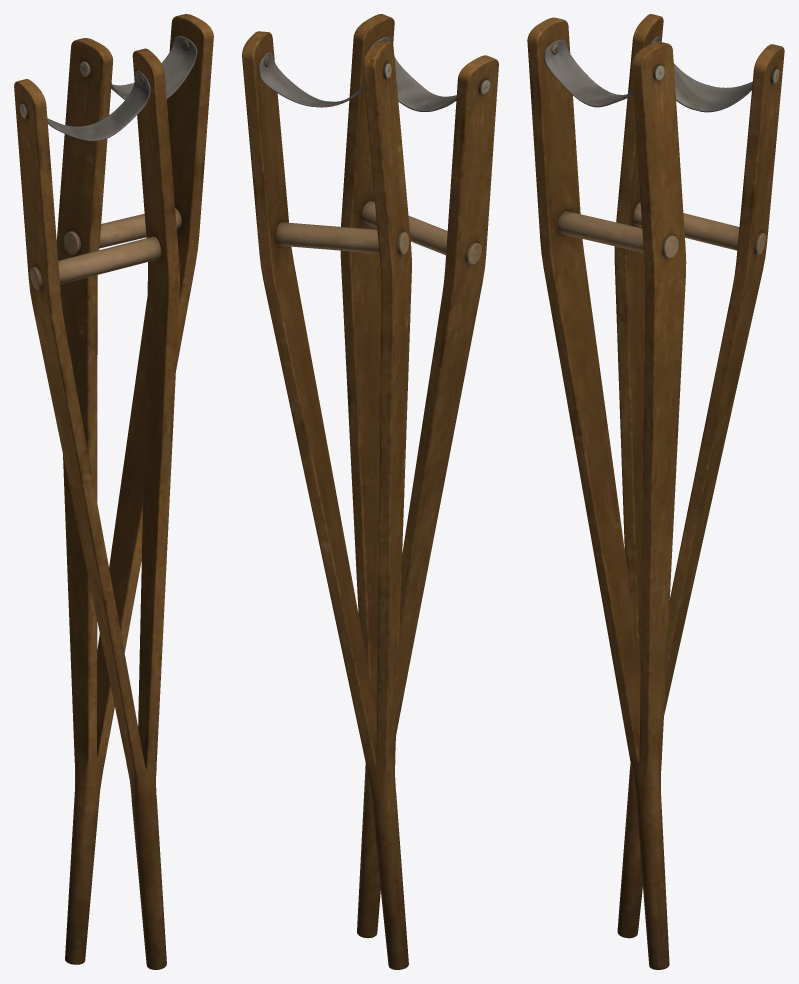
The model's file is vintage_crutches_01.glb.
The picture shows the model from 3 angles, left to right: view 1: azimuth 30°, elevation 25°; view 2: azimuth 150°, elevation 25°; view 3: azimuth 330°, elevation 25°; orthographic projection.
Visible parts, largest first — view 1: vintage_crutches_01_crutch01, vintage_crutches_01_crutch02; view 2: vintage_crutches_01_crutch02, vintage_crutches_01_crutch01; view 3: vintage_crutches_01_crutch01, vintage_crutches_01_crutch02.
Part boxes in pixels (bbox=[...]): vintage_crutches_01_crutch01: bbox=[14, 48, 179, 969]; vintage_crutches_01_crutch02: bbox=[56, 14, 213, 964]; vintage_crutches_01_crutch02: bbox=[242, 31, 411, 969]; vintage_crutches_01_crutch01: bbox=[340, 14, 498, 938]; vintage_crutches_01_crutch01: bbox=[527, 17, 686, 969]; vintage_crutches_01_crutch02: bbox=[614, 14, 784, 938].
Size of the model in its own units: 0.3838 by 1.6 by 0.2036.
1 material, 1 textured.
